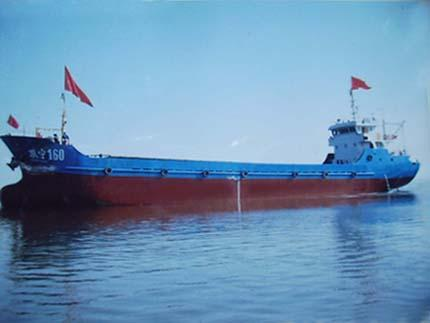Cargoship: (2, 64, 423, 210)
